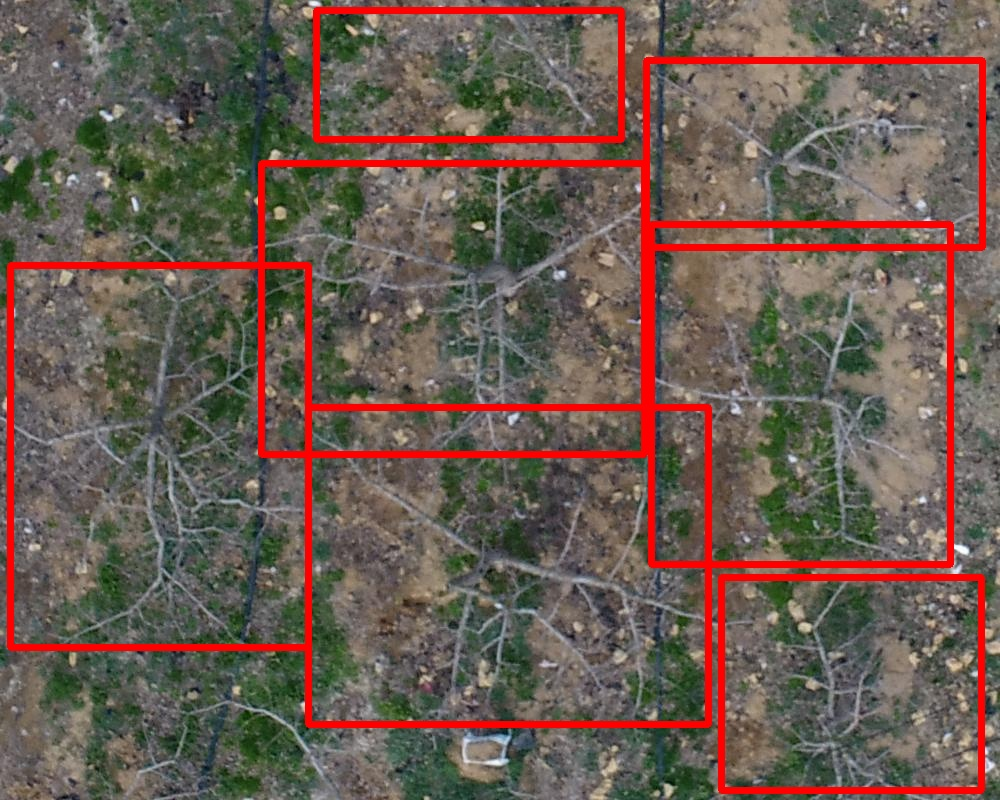apple: (308, 407, 708, 724), (10, 265, 308, 647), (261, 163, 644, 454), (651, 224, 950, 564), (646, 60, 982, 247), (721, 577, 981, 790), (316, 10, 621, 139)
